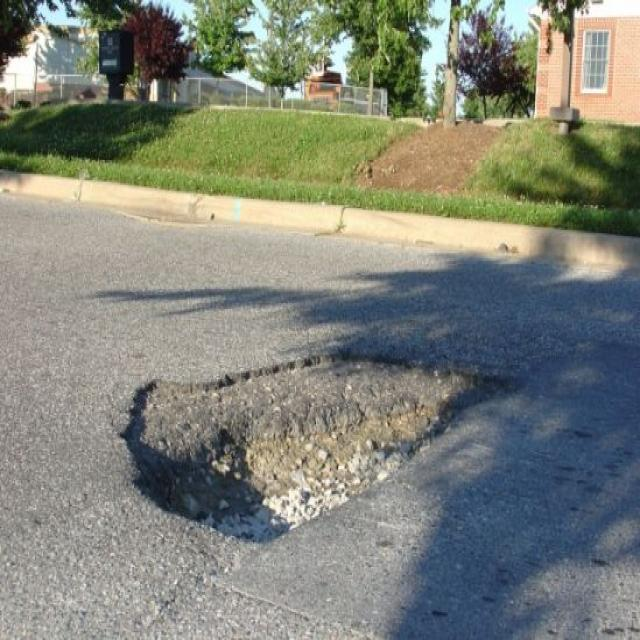Pothole: (120, 351, 512, 547)
